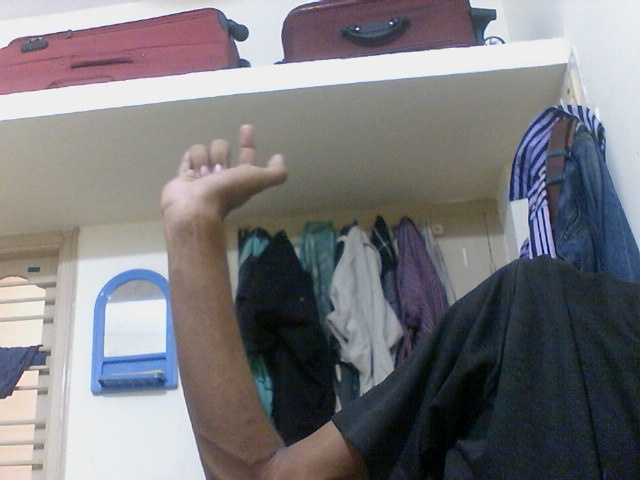hand: (158, 120, 291, 228)
